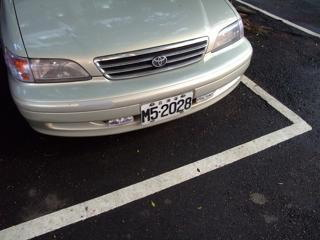plate: (141, 94, 193, 124)
